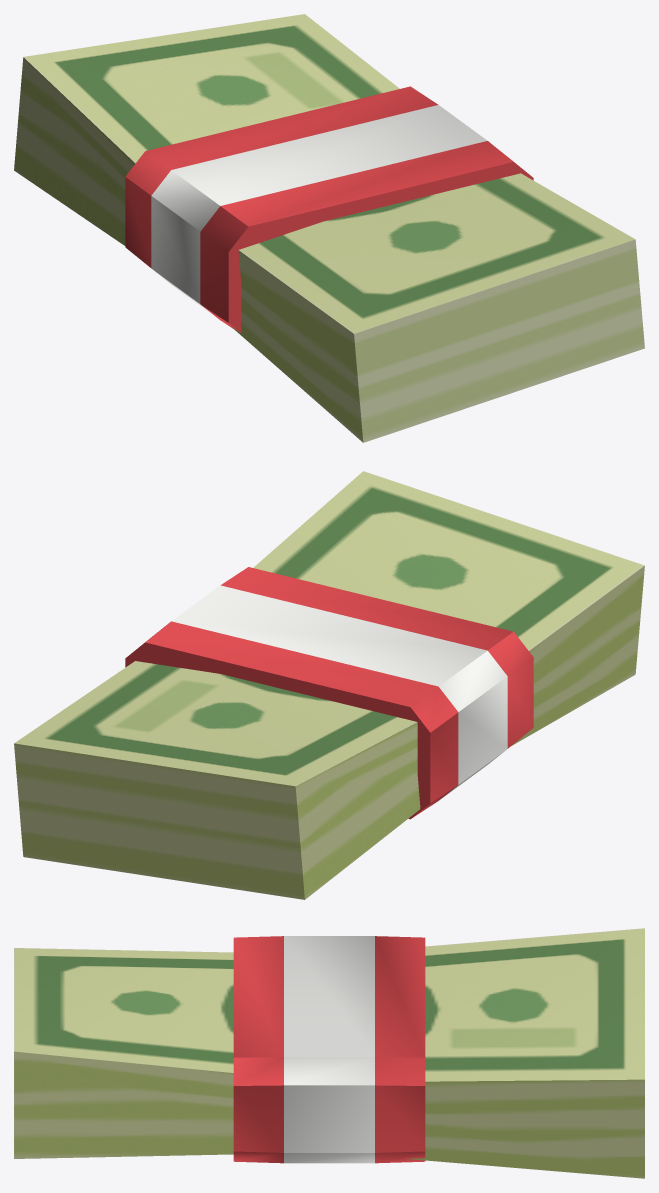
File: dinheiro_maco_pacote.glb
3 renders of one model, top to bottom at view 1: azimuth 30°, elevation 25°; view 2: azimuth 150°, elevation 25°; view 3: azimuth 270°, elevation 25°, orthographic. The views are drawn at different scales.
Parts seen in each view (by area): view 1: dinheiro_maco_pacote; view 2: dinheiro_maco_pacote; view 3: dinheiro_maco_pacote.
Part boxes in pixels (x1,y1,x2,y2): dinheiro_maco_pacote: (14,14,644,442); dinheiro_maco_pacote: (14,471,644,899); dinheiro_maco_pacote: (14,928,644,1178).
Size of the model in its own units: 0.0821 by 0.035 by 0.1575.
2 materials, 2 textured.
